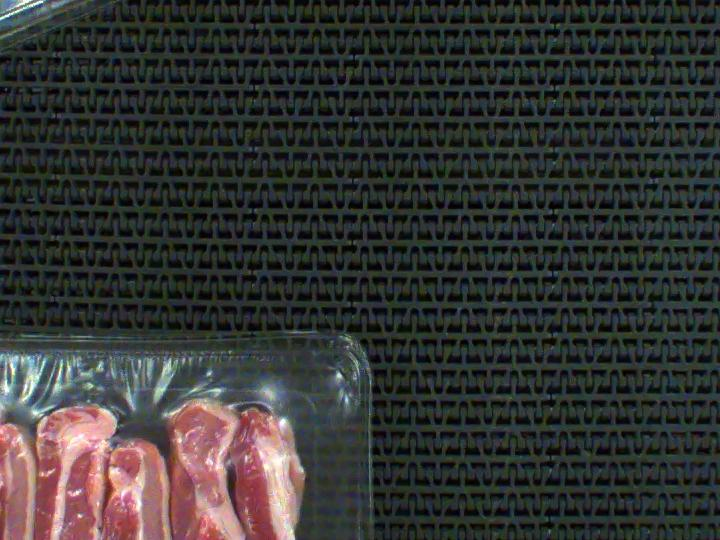unsealed: (0, 358, 336, 540)
